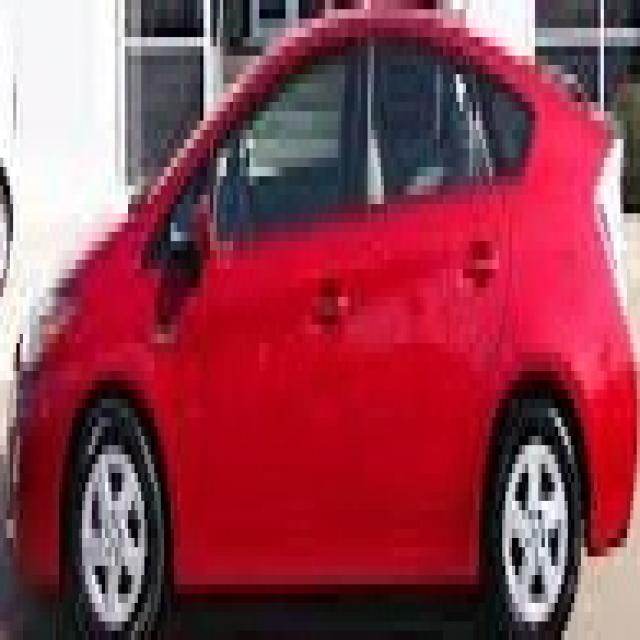red: (13, 0, 623, 621)
